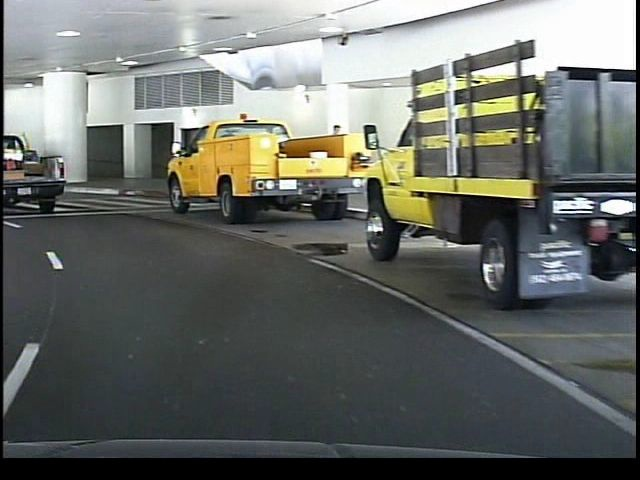person: (321, 119, 347, 200)
